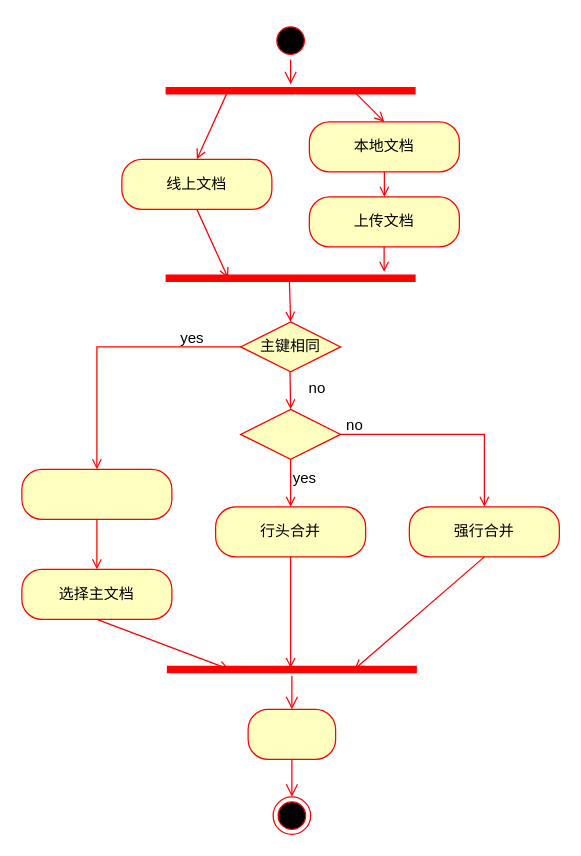
Image size: 581x856. Some labels were removed from this diagram. Each missing label, with the centre of its shape:
主键合并: the point at 96,493
生成: the point at 291,733
行头相同: the point at 290,433
